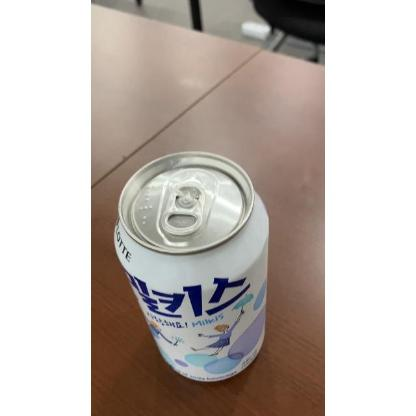Can: (111, 150, 269, 386)
